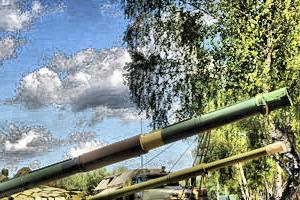tanks: (1, 92, 292, 200), (96, 152, 265, 200), (1, 183, 96, 200), (98, 199, 104, 200)
